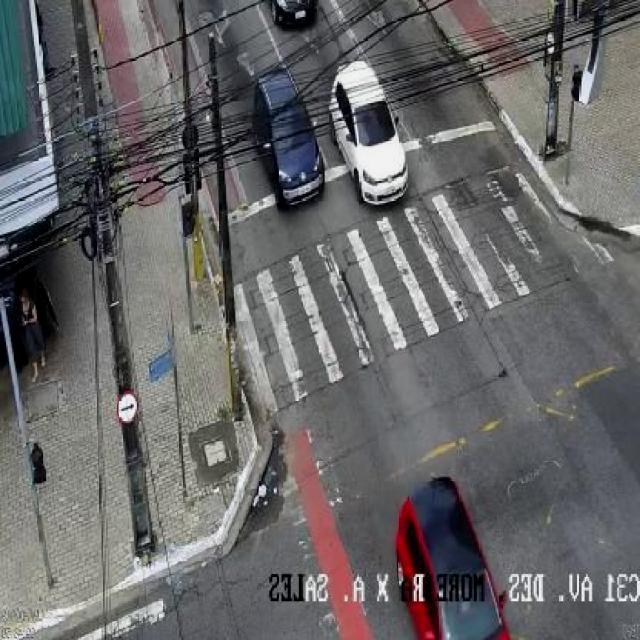Car: (395, 458, 506, 640), (327, 51, 411, 211), (237, 73, 324, 222), (252, 0, 326, 25)
